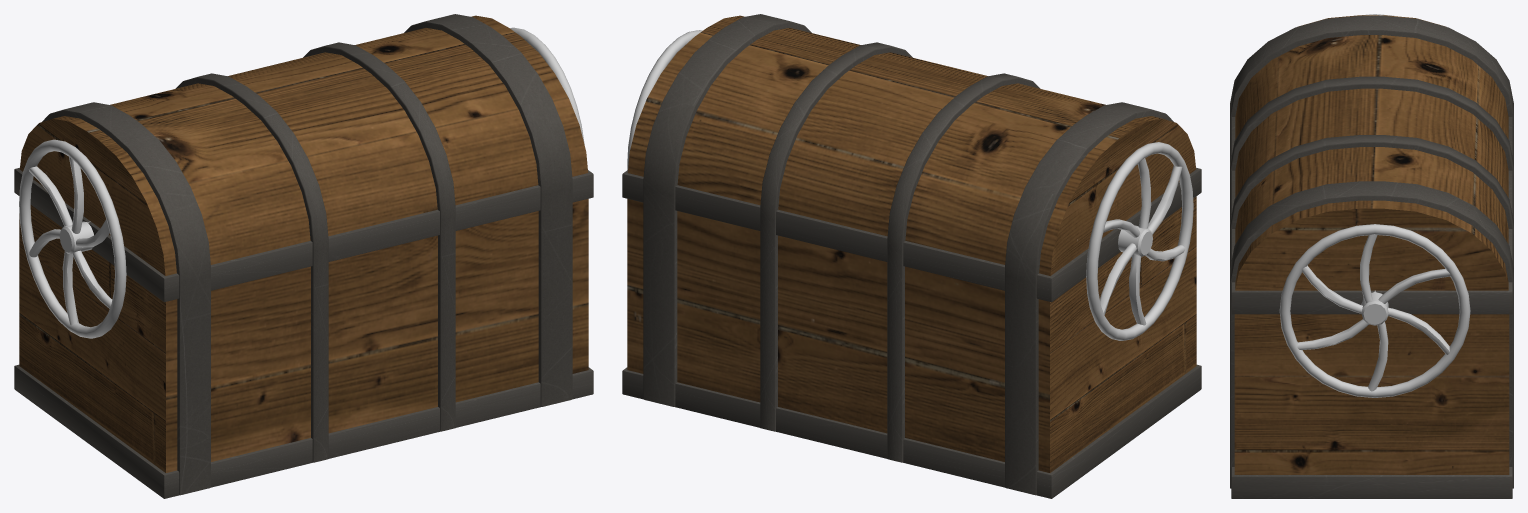
The model's file is coffre.fbx.
3 views of the same model, side by side, from view 1: azimuth 30°, elevation 25°; view 2: azimuth 150°, elevation 25°; view 3: azimuth 270°, elevation 25° (orthographic). The views are drawn at different scales.
Visible parts, largest first — view 1: Torus; view 2: Torus; view 3: Torus.
Part boxes in pixels (left/top/right/bottom): Torus: left=14, top=14, right=593, bottom=498; Torus: left=622, top=14, right=1201, bottom=498; Torus: left=1230, top=14, right=1513, bottom=498.
Size of the model in its own units: 79.3 by 50.27 by 43.94.
